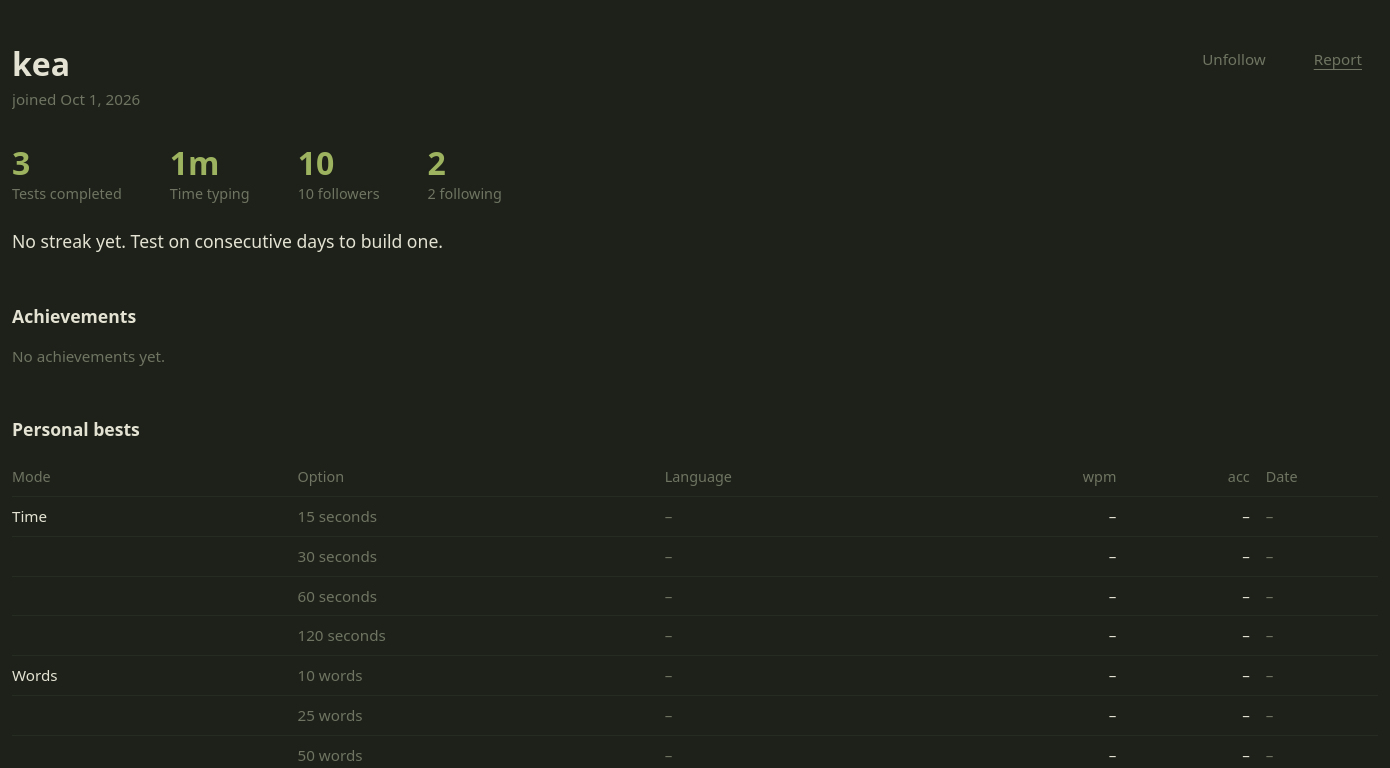
follow button › unfollows with a DELETE and drops the count
What coordinates should you click on to do the following:
click the button "Unfollow"
I would click on:
 (1234, 59)
Its box is [1186,40,1282,79].
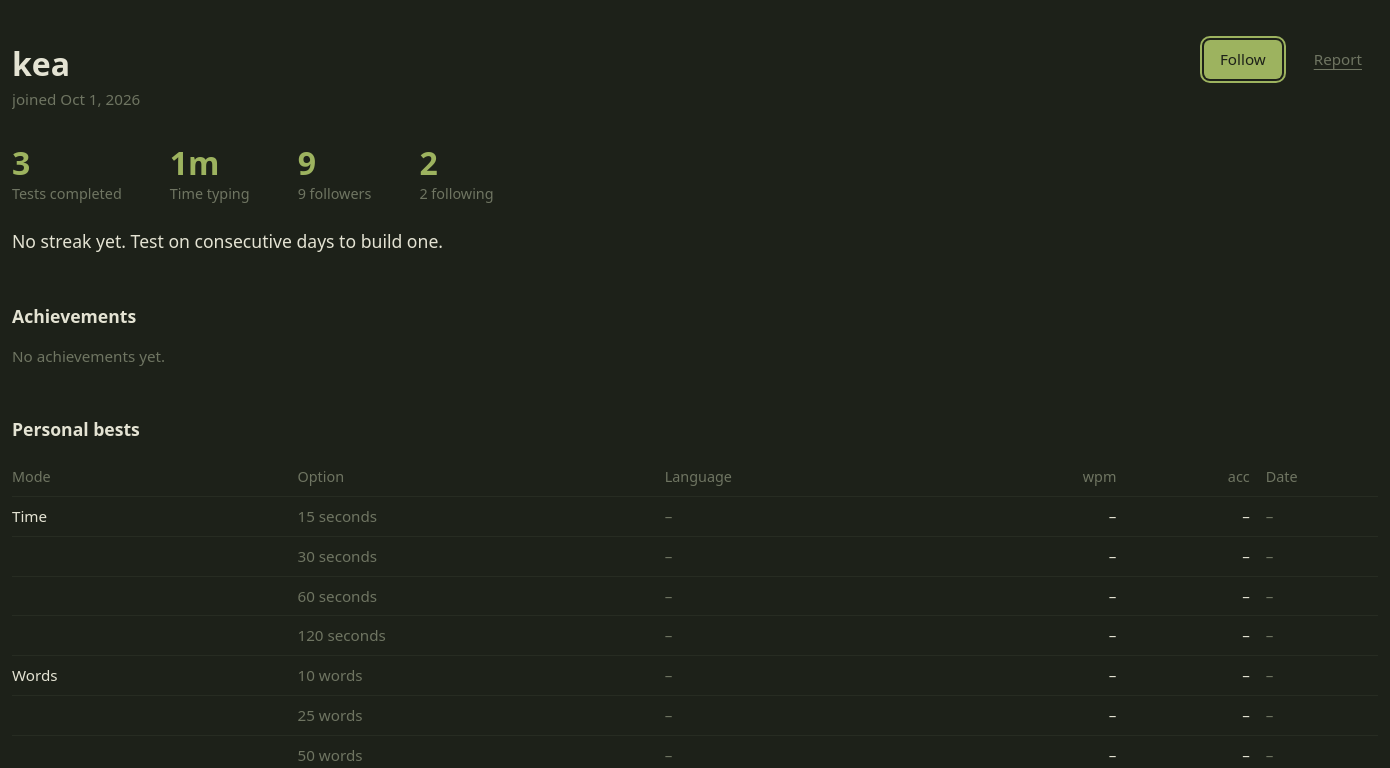
Check: the button "Follow" is shown, box [1204,40,1282,79]
Check: the text "9 followers" is shown, box [298,183,371,204]
